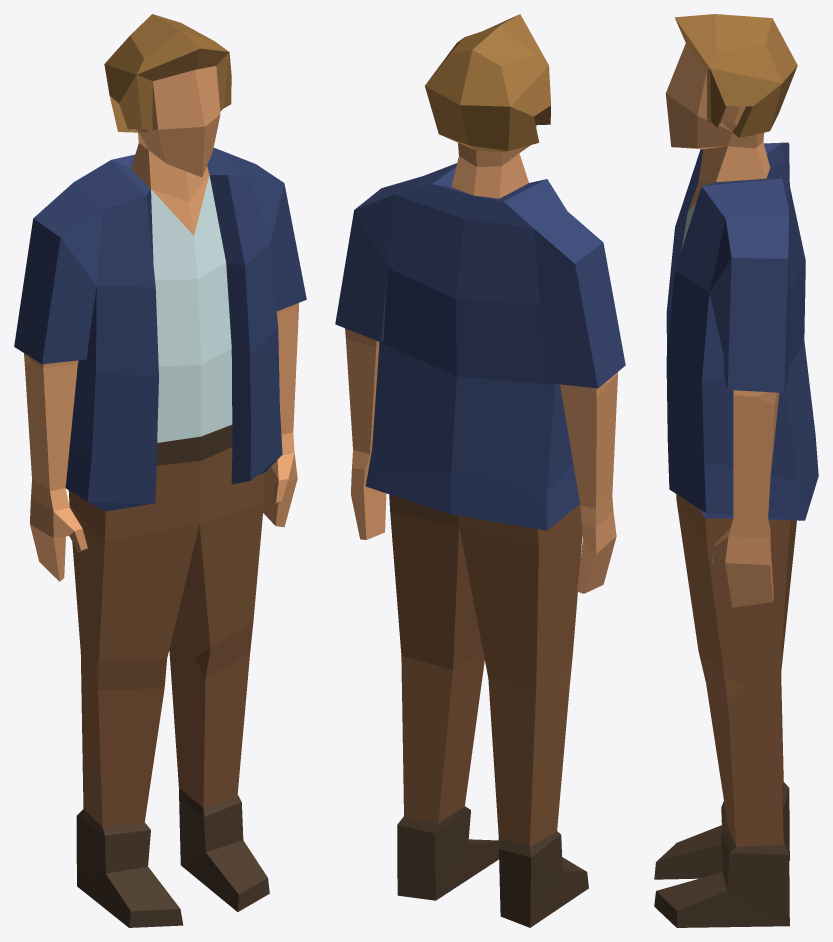
The model's file is people_man-pedestrian.fbx.
The picture shows the model from 3 angles, left to right: view 1: azimuth 30°, elevation 25°; view 2: azimuth 150°, elevation 25°; view 3: azimuth 270°, elevation 25°; orthographic projection. The views are drawn at different scales.
Visible parts, largest first — view 1: people_man_pedestrian; view 2: people_man_pedestrian; view 3: people_man_pedestrian.
Part boxes in pixels (x1,y1,x2,y2): people_man_pedestrian: (14, 14, 306, 927); people_man_pedestrian: (335, 14, 625, 927); people_man_pedestrian: (654, 14, 818, 927).
Size of the model in its own units: 63.98 by 200 by 33.89.
